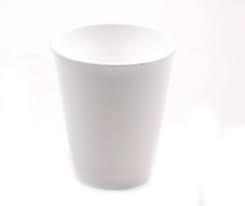Plastic cup: (47, 10, 180, 206)
